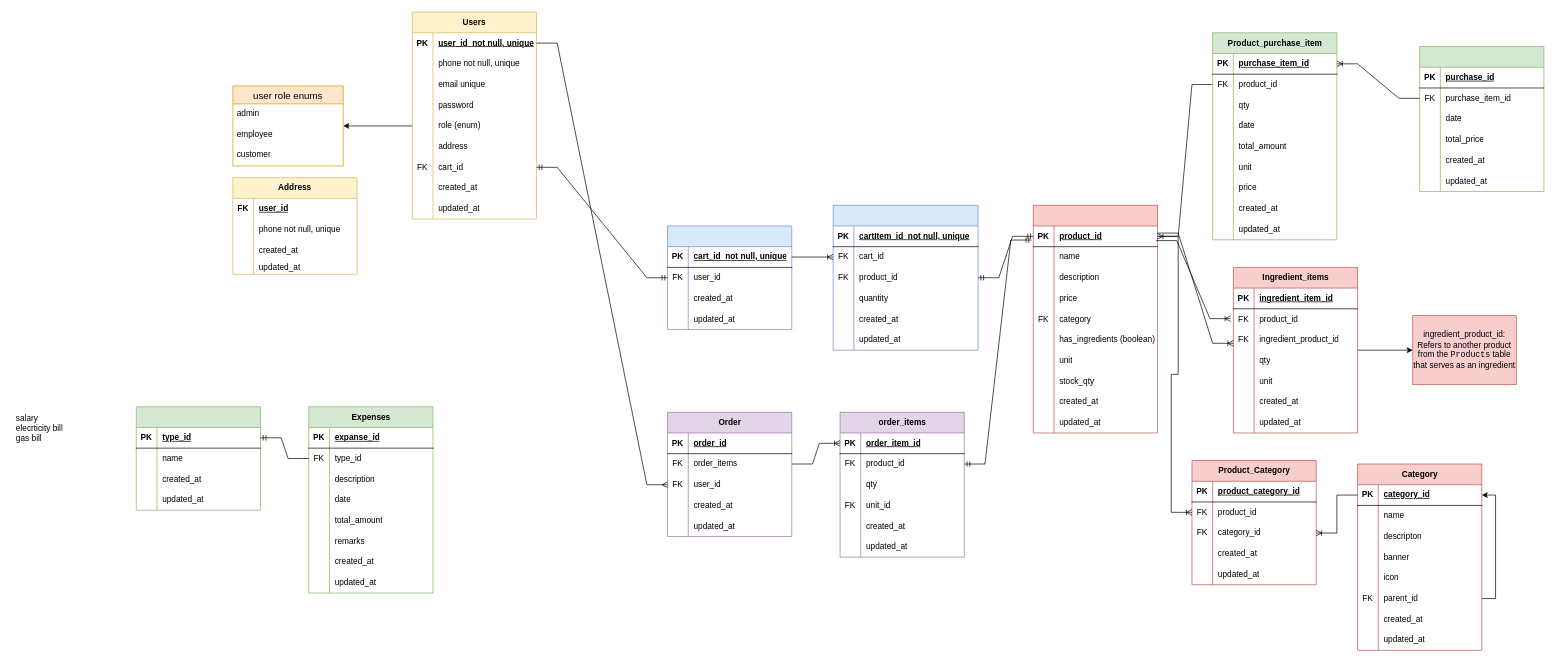
This 1556x662 diagram has some shape labels left out. Here are the shapes that lost their labels. From the top down, the box of each, then its label:
(1419, 46, 1544, 191): Product_purchase
(667, 225, 792, 329): Carts
(832, 205, 978, 350): CartItems
(1033, 205, 1157, 433): Products
(136, 406, 260, 510): Expense_types
